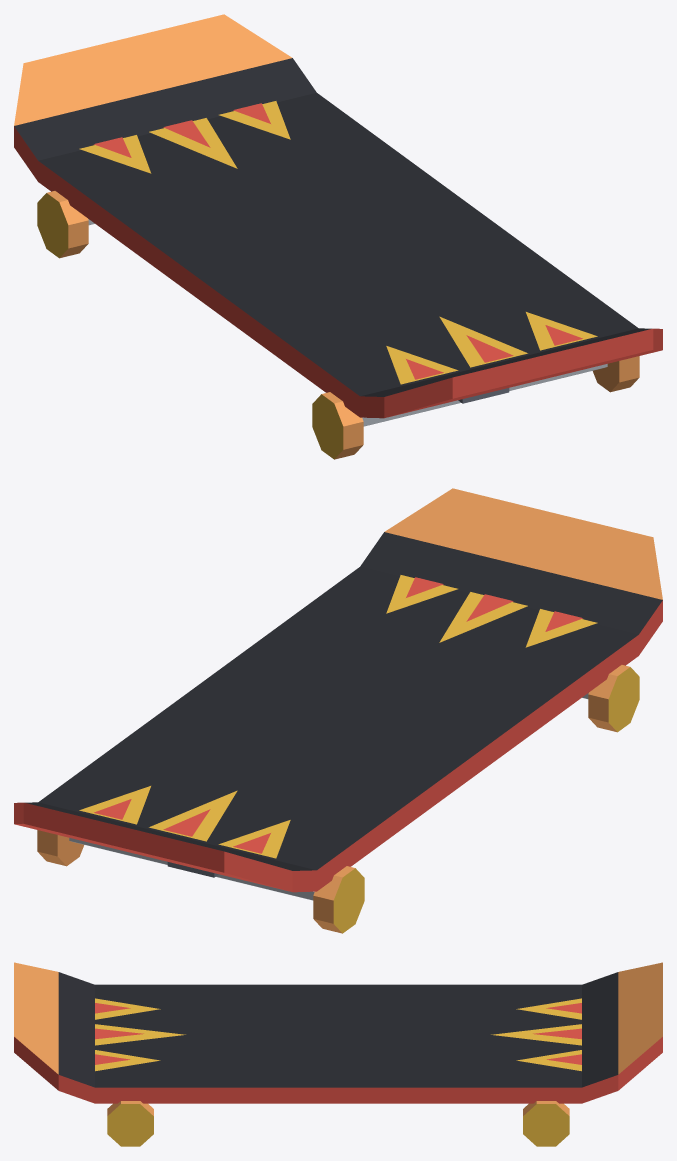
Rendered from S_Skate_2.fbx.
The picture shows the model from 3 angles, top to bottom: view 1: azimuth 30°, elevation 25°; view 2: azimuth 150°, elevation 25°; view 3: azimuth 270°, elevation 25°; orthographic projection. The views are drawn at different scales.
Visible parts, largest first — view 1: S_Skate_2; view 2: S_Skate_2; view 3: S_Skate_2.
Part boxes in pixels (x1,y1,x2,y2): S_Skate_2: (14, 14, 662, 459); S_Skate_2: (14, 488, 662, 933); S_Skate_2: (14, 962, 662, 1146).
Bounding box in the file's own units: 0.51 × 0.2012 × 1.28.
